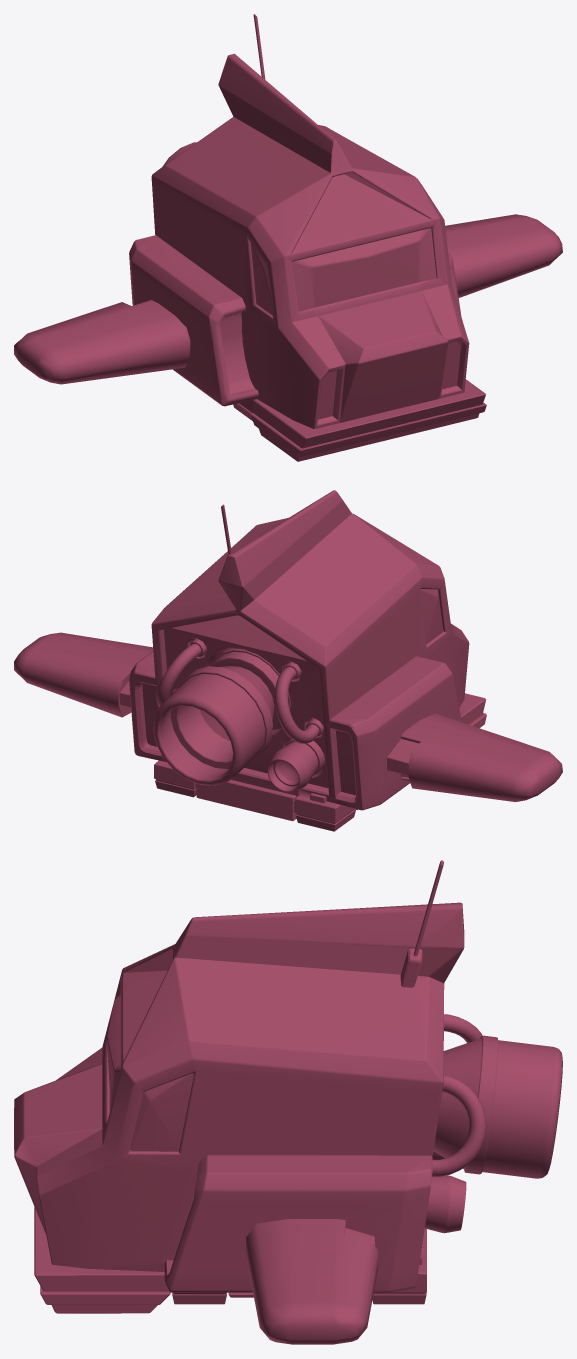
3 renders of one model, top to bottom at view 1: azimuth 30°, elevation 25°; view 2: azimuth 150°, elevation 25°; view 3: azimuth 270°, elevation 25°, orthographic. The views are drawn at different scales.
Parts seen in each view (by area): view 1: ship; view 2: ship; view 3: ship.
Part boxes in pixels (x1,y1,x2,y2): ship: (14,14,562,461); ship: (14,490,562,831); ship: (14,860,562,1344).
Bounding box in the file's own units: 449 × 257 × 315.
